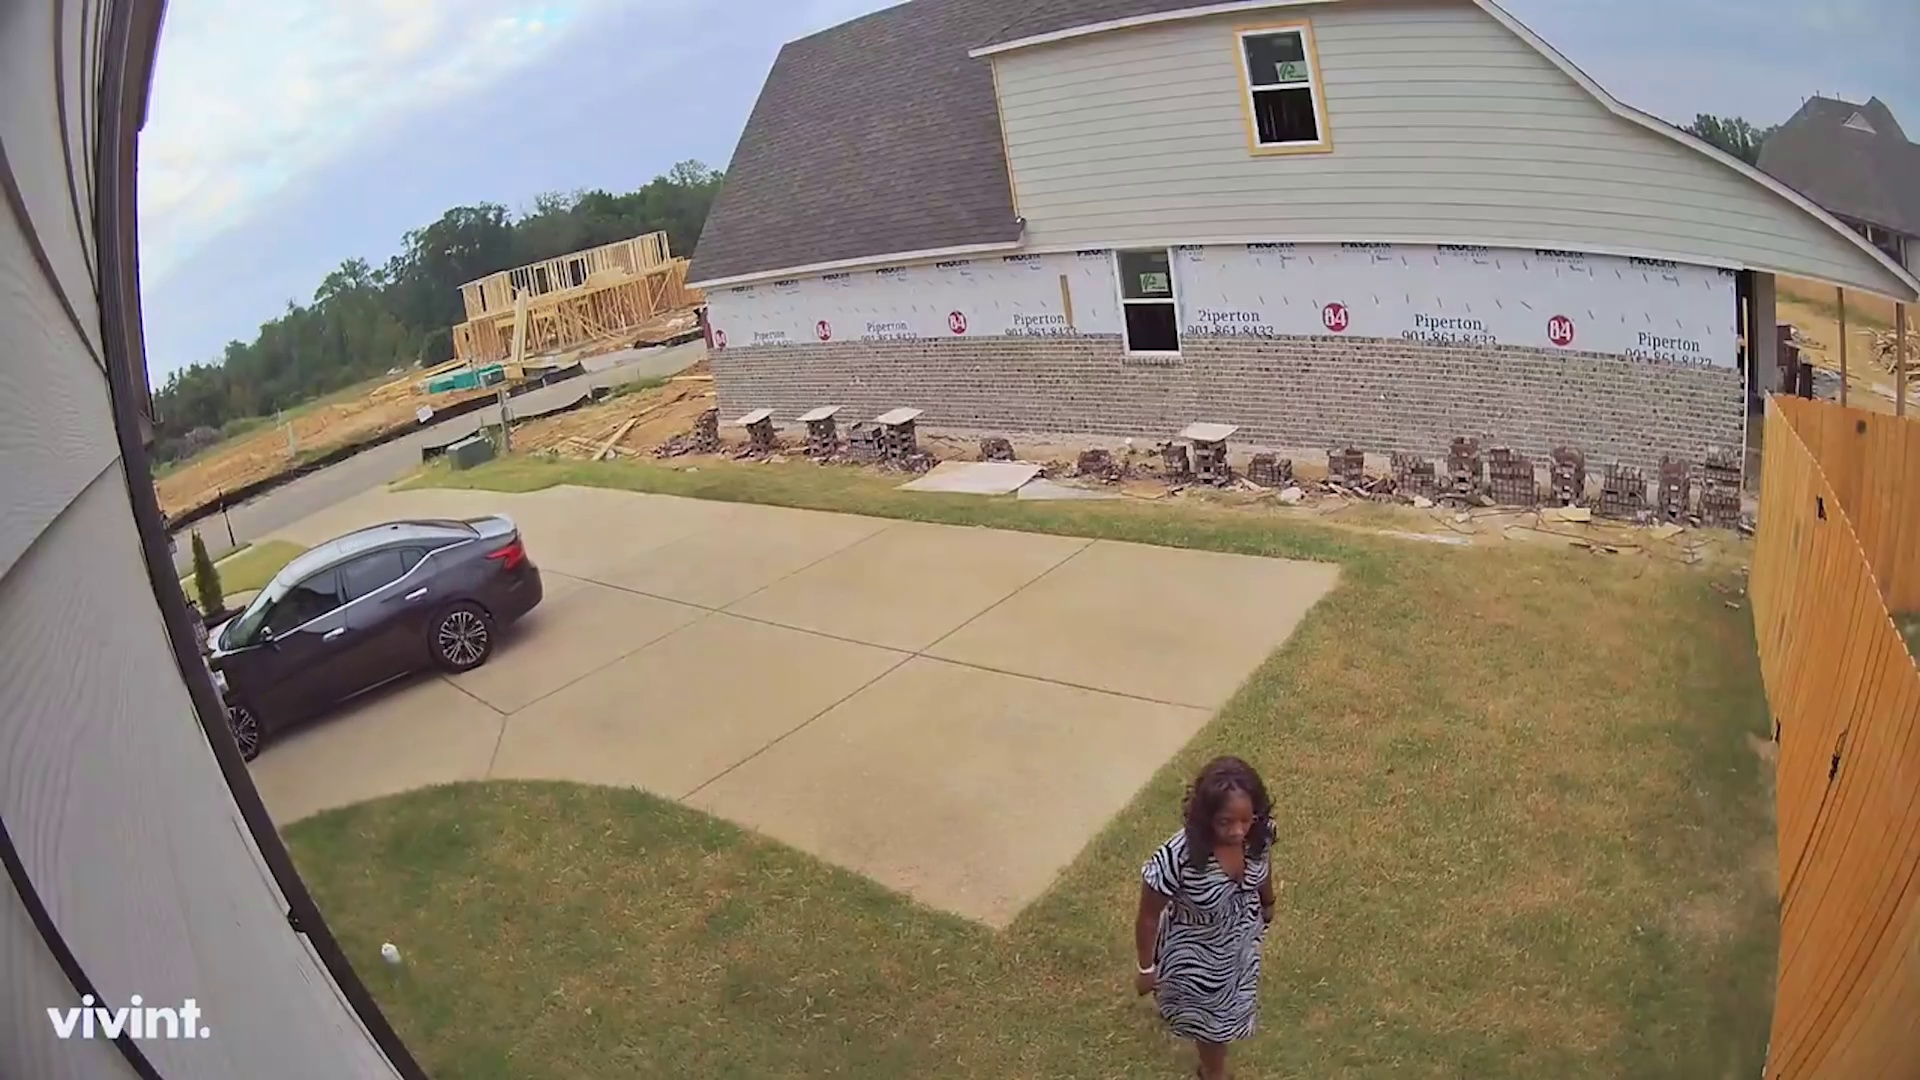face: (1212, 797, 1257, 849)
